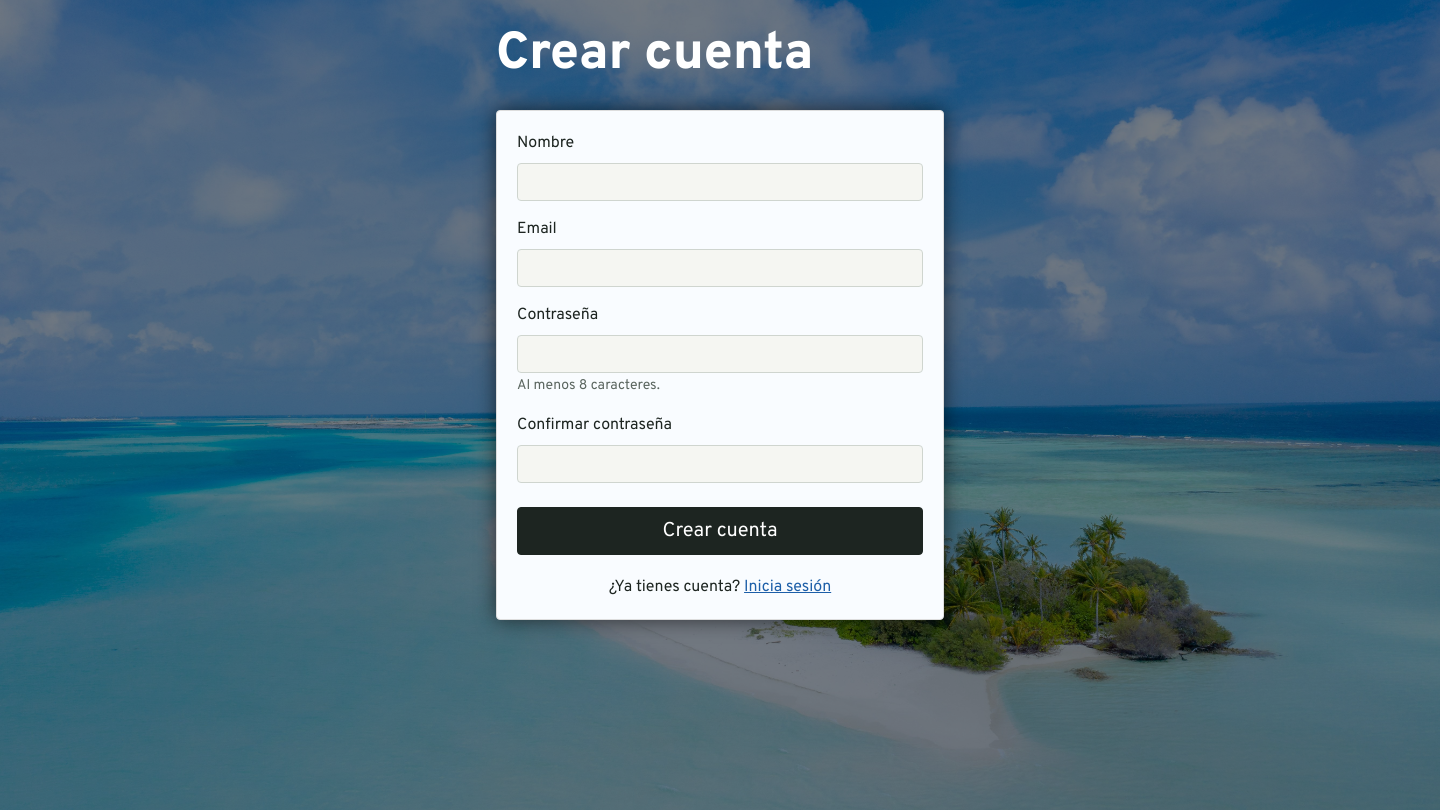
it: B2 RegisterPage › a password that is too short is rejected
Type "Ana" into the field labelled "Nombre". click: (720, 182)
box: [517,163,923,201]
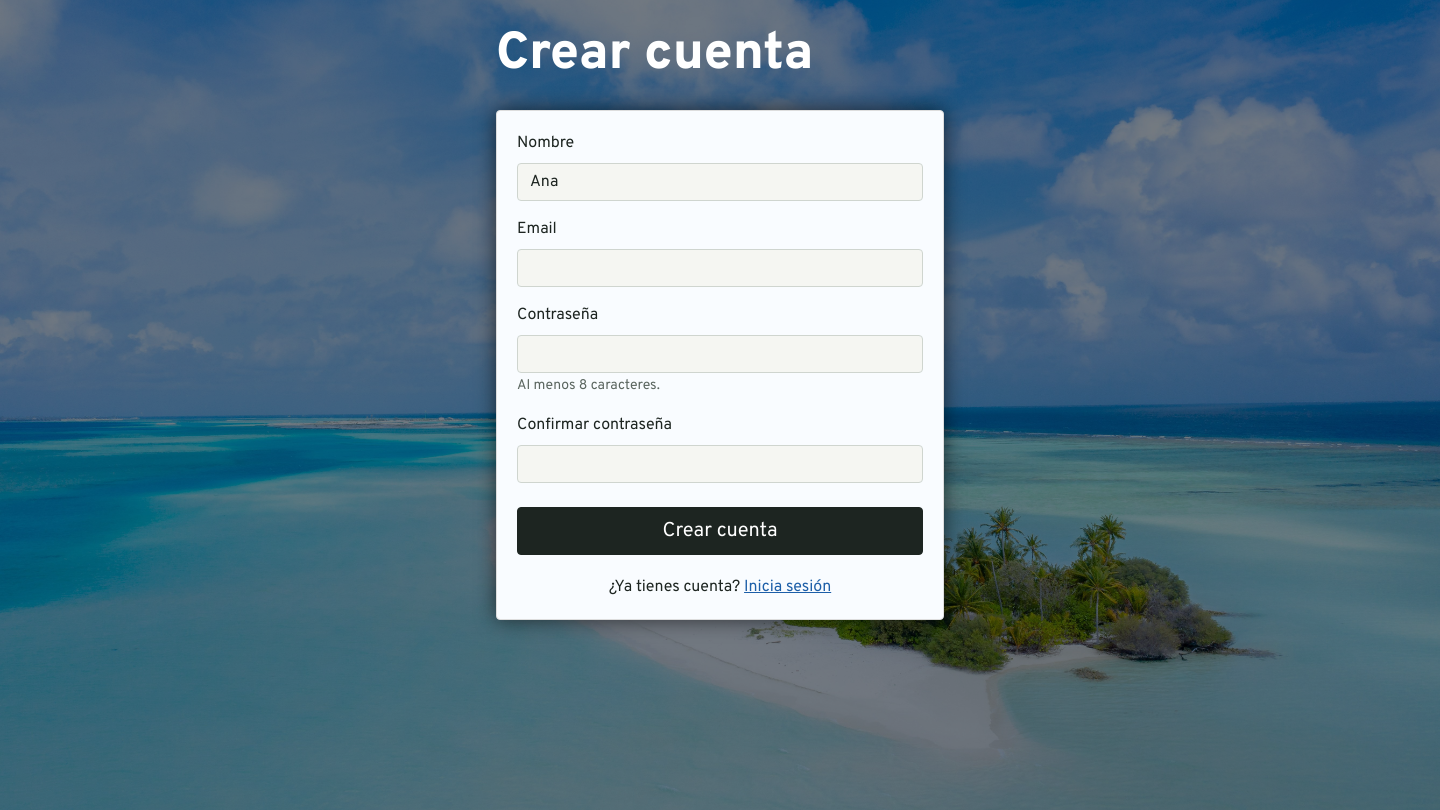
Type "ana@example.com" into the field labelled "Email". click: (720, 268)
box: [517,249,923,287]
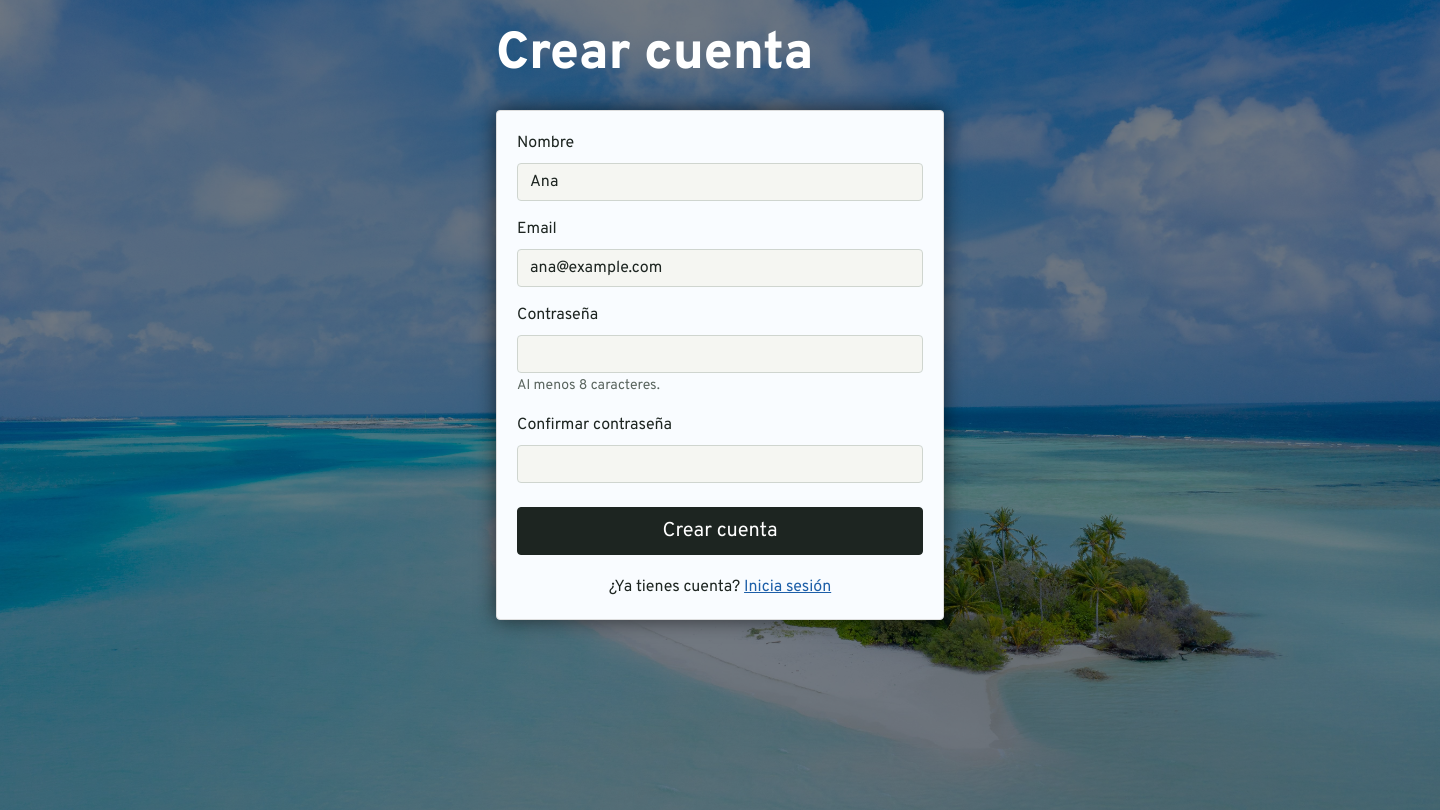
Type "corta" into the password field labelled "Contraseña". click: (720, 354)
box: [517,335,923,373]
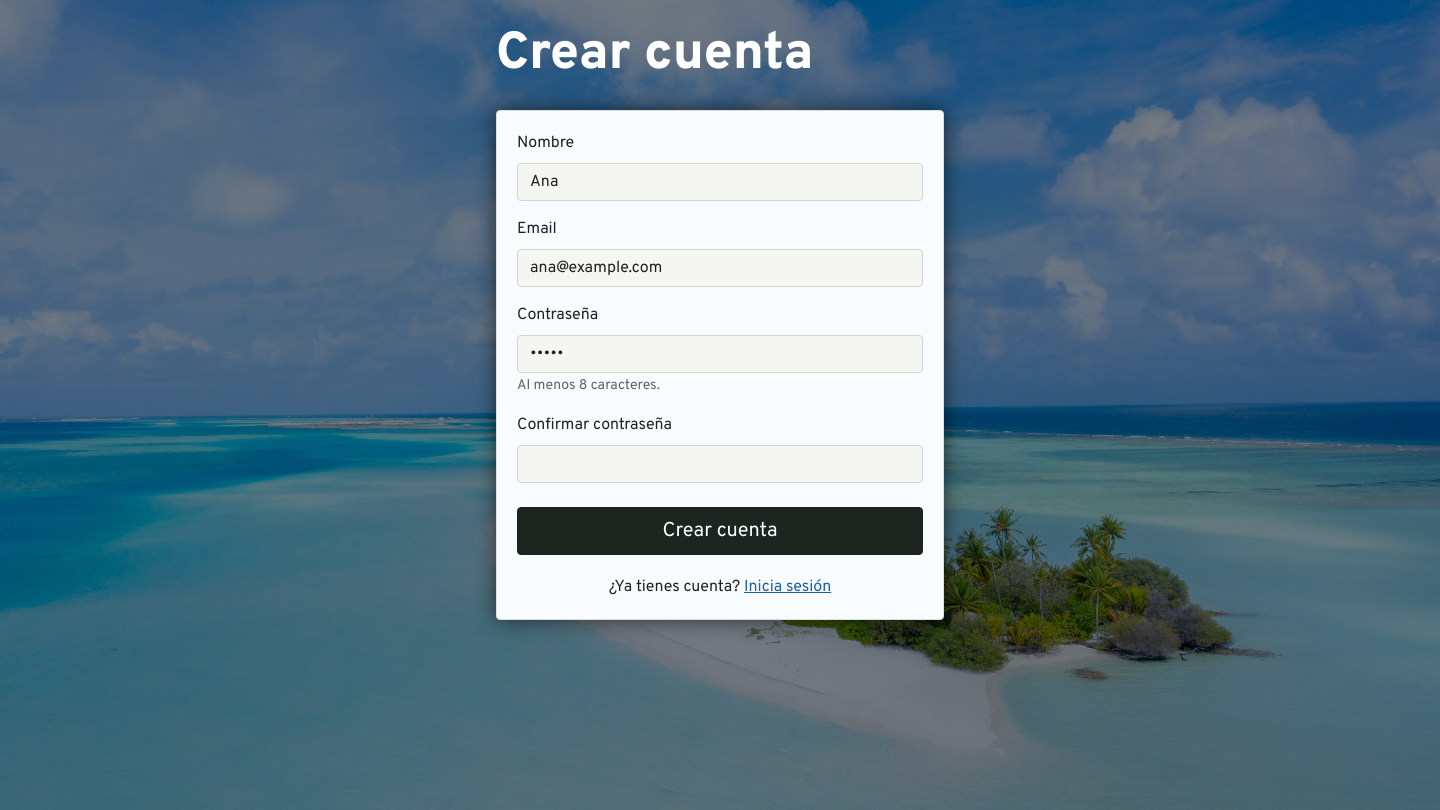
Type "corta" into the password field labelled "Confirmar contraseña". click: (720, 464)
box: [517,445,923,483]
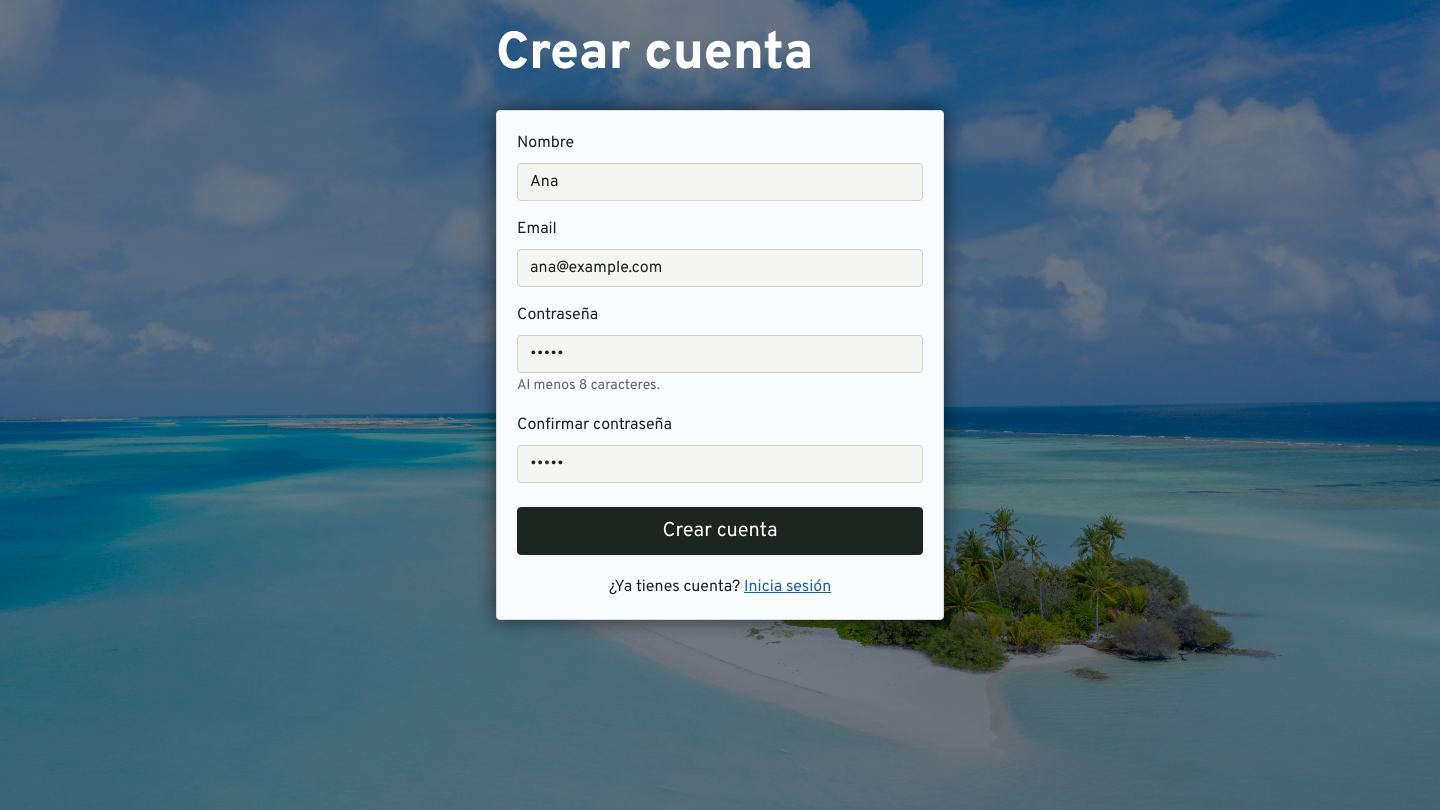
Click the button "Crear cuenta". click: (720, 531)
box: [517,507,923,555]
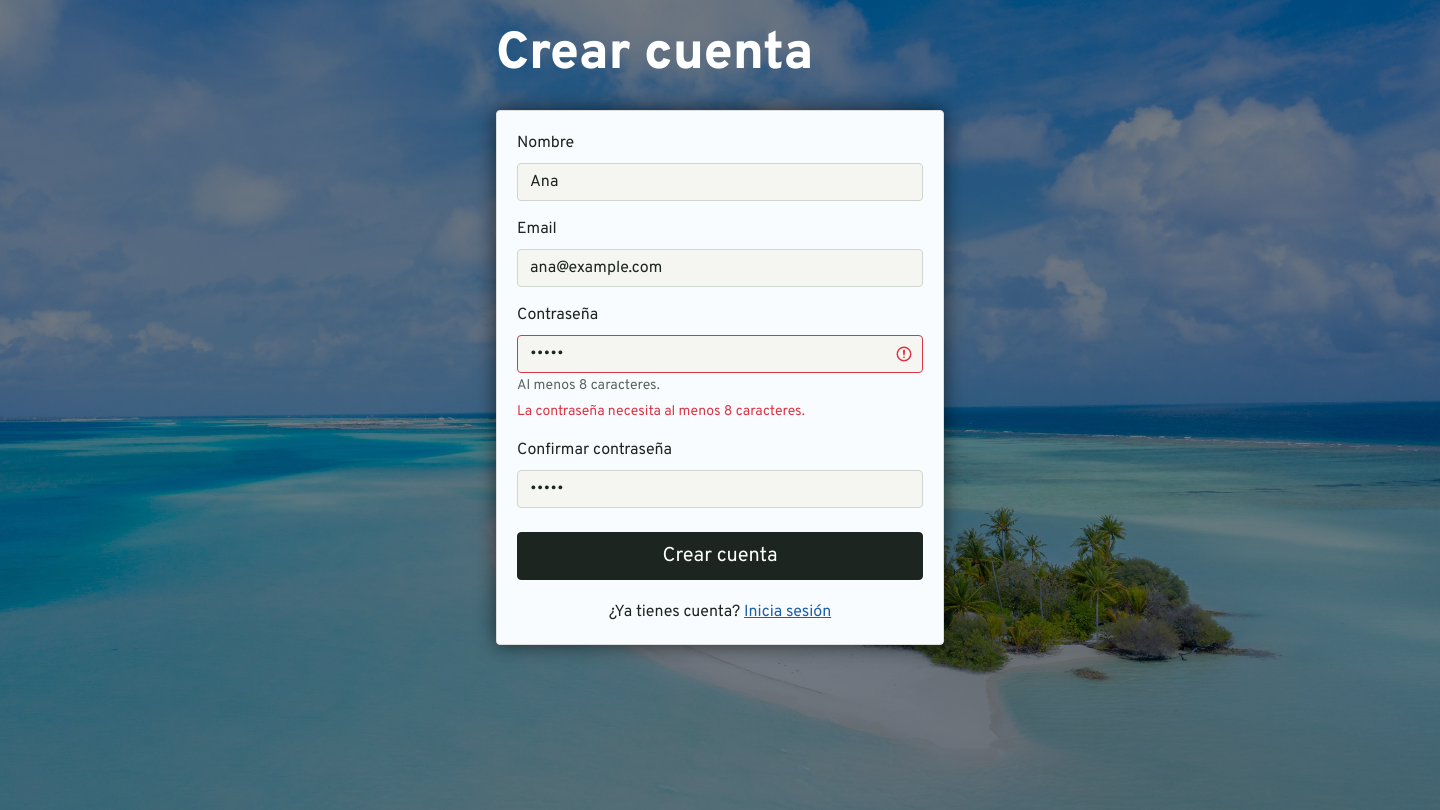
Now the text "La contraseña necesita al menos 8 caracteres." is shown, box [517,403,805,420]
